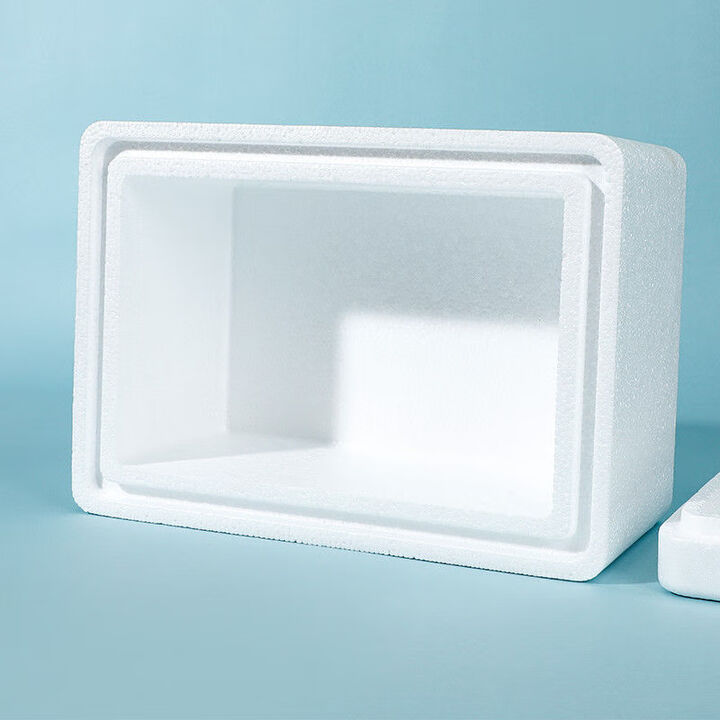Boxes: (72, 122, 684, 580)
